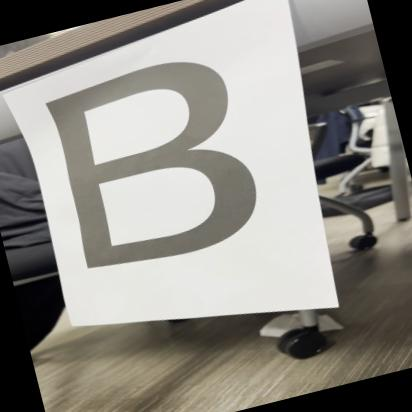seat: (20, 35, 306, 293)
